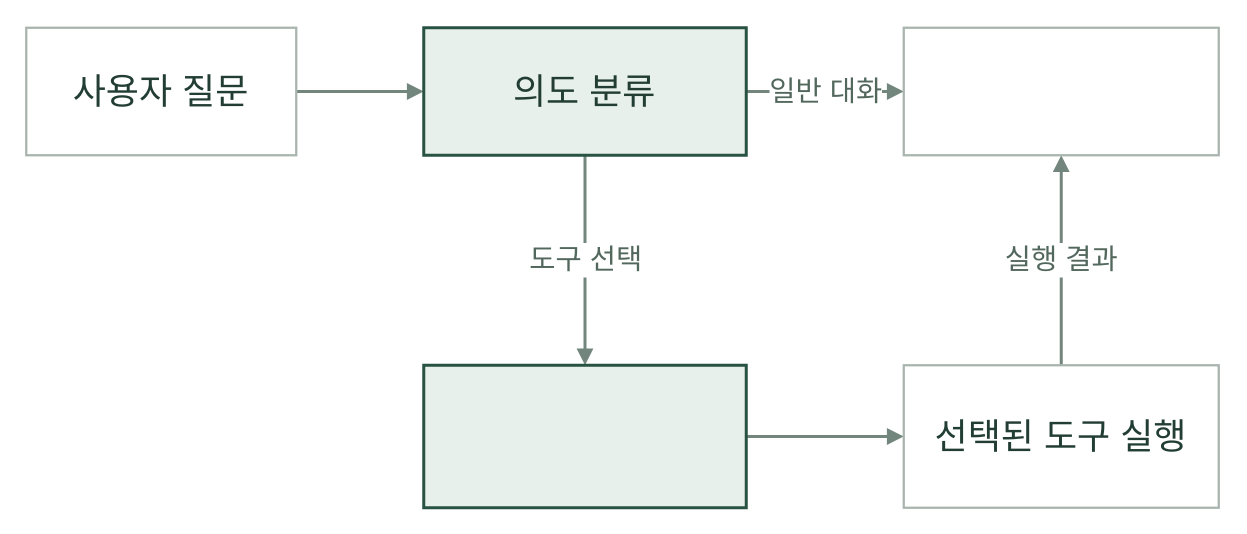
Image size: 1247x534. Some labels were removed from this diagram. The box of each missing label's shape, as (x1, y1, x2, y2) in pixels:
응답 생성: (902, 26, 1219, 156)
인자 추출 tool_choice: required: (422, 363, 747, 508)
